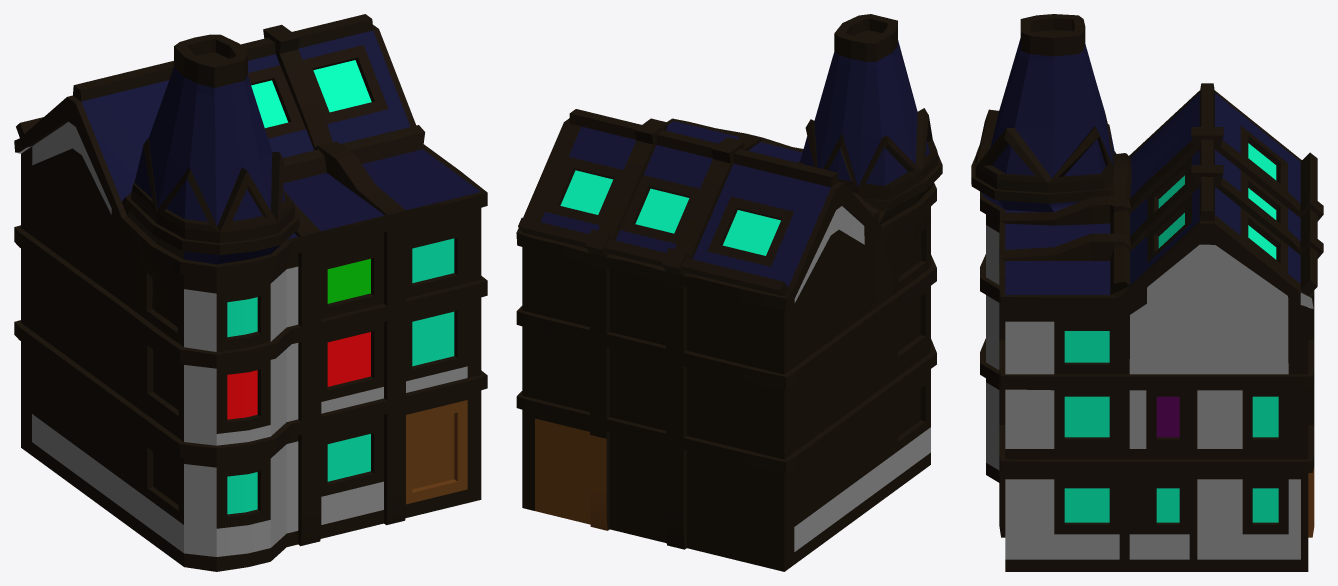
Rendered from MOD_BatC.FBX.
3 views of the same model, side by side, from view 1: azimuth 30°, elevation 25°; view 2: azimuth 150°, elevation 25°; view 3: azimuth 270°, elevation 25° (orthographic). The views are drawn at different scales.
Parts seen in each view (by area): view 1: Batiment_C; view 2: Batiment_C; view 3: Batiment_C.
Part boxes in pixels (x1,y1,x2,y2): Batiment_C: [14, 14, 487, 571]; Batiment_C: [516, 14, 942, 571]; Batiment_C: [971, 14, 1323, 571].
Bounding box in the file's own units: 31.92 × 48.02 × 34.9.
